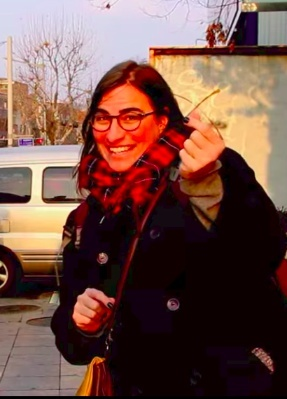oneheart: (174, 110, 233, 169)
